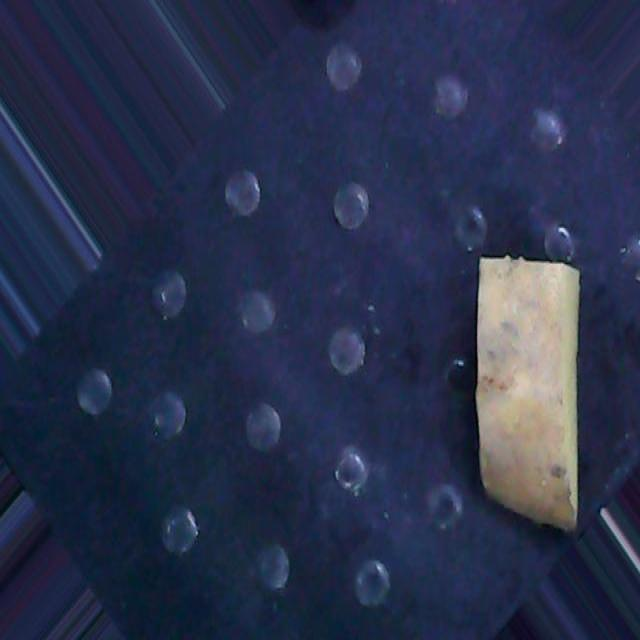-Kitchen waste - potato-: (477, 252, 582, 532)
